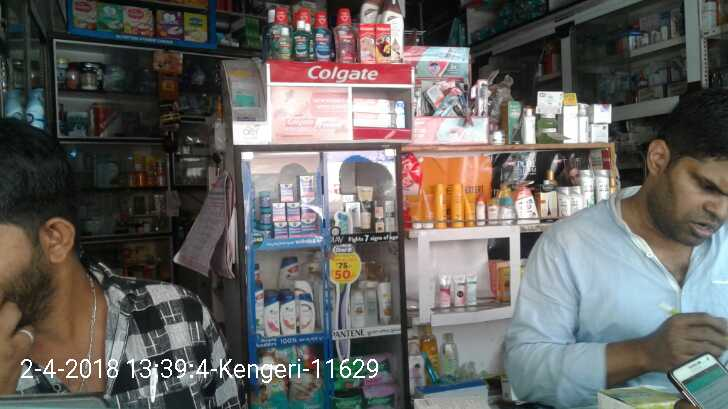vicks: (273, 173, 319, 238), (255, 191, 273, 238)
